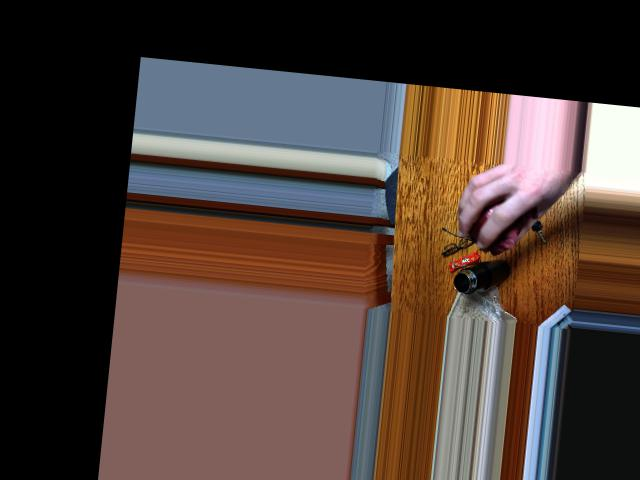onion: (463, 198, 529, 249)
